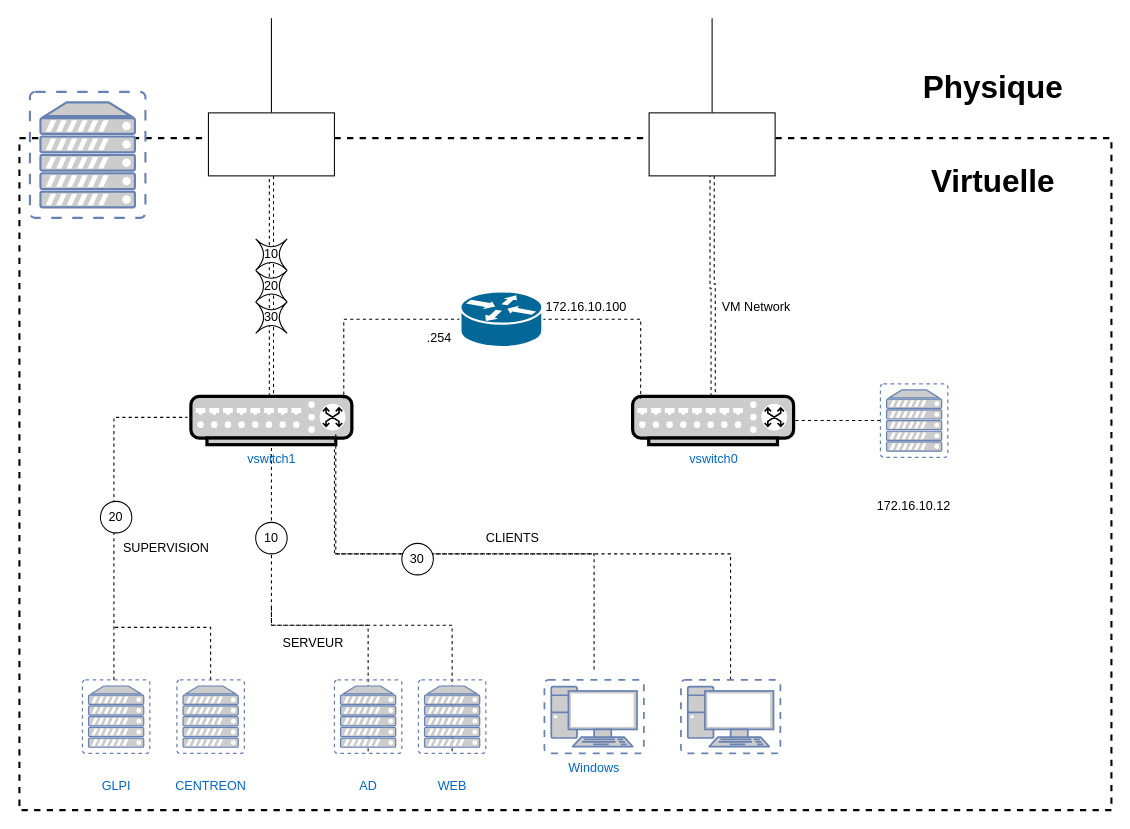
Some shapes in this 1130 by 829 pixel diagram are drawn without their labels. Here are the shapes that lost their labels. From the top down, the centre of each, then its label:
the point at 87,154: ESX
the point at 270,144: vmic0
the point at 711,144: vmic1
the point at 501,319: CISO_VIRT
the point at 913,420: VMOTION
the point at 730,716: Linux
